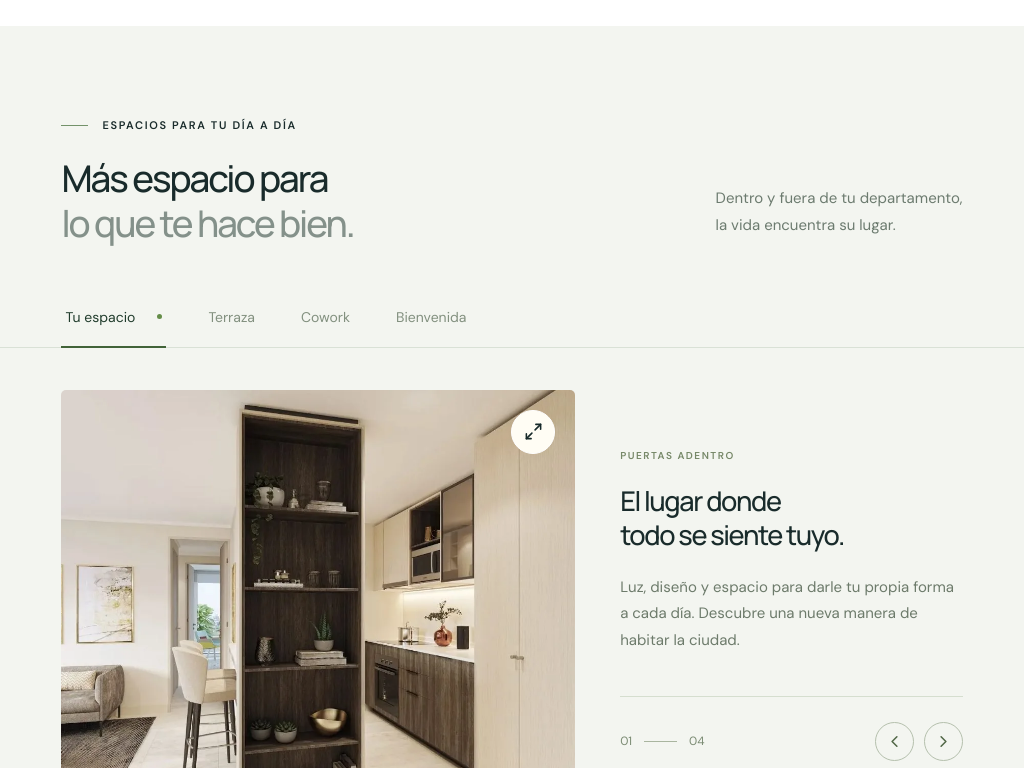
Test: Recorrido de Fundamenta › la galería avanza y se cierra con el teclado
(page scrolled)
Click the button named "Ampliar imagen del espacio". click: (533, 432)
box: left=511, top=410, right=555, bottom=454
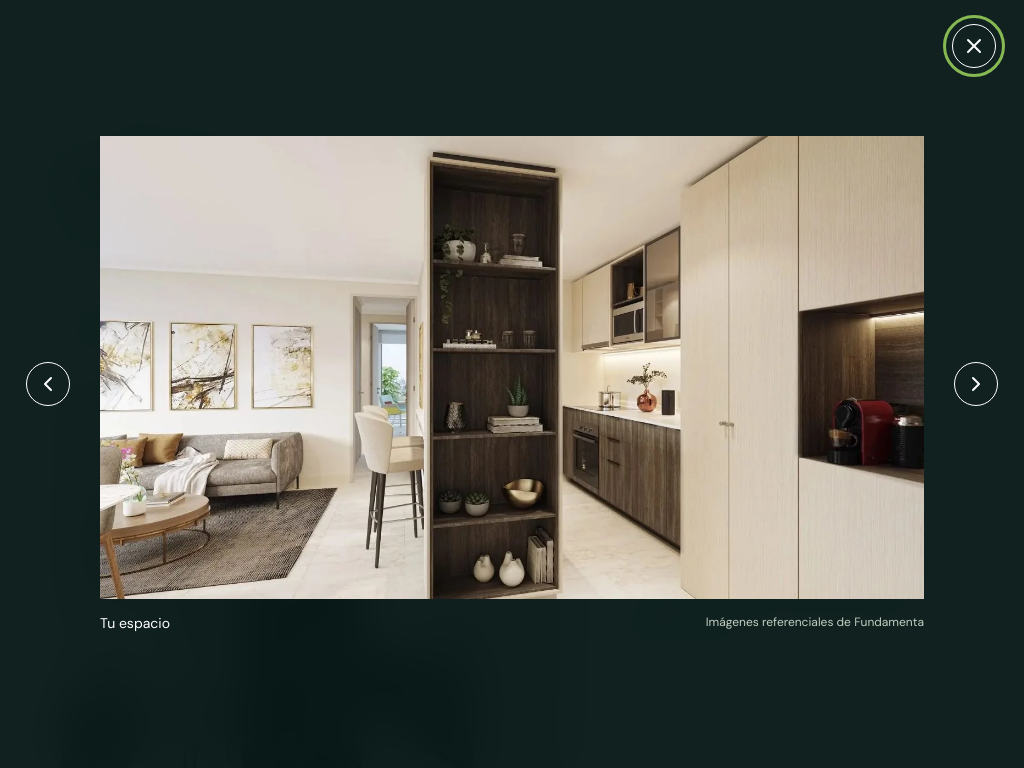
Press ArrowRight
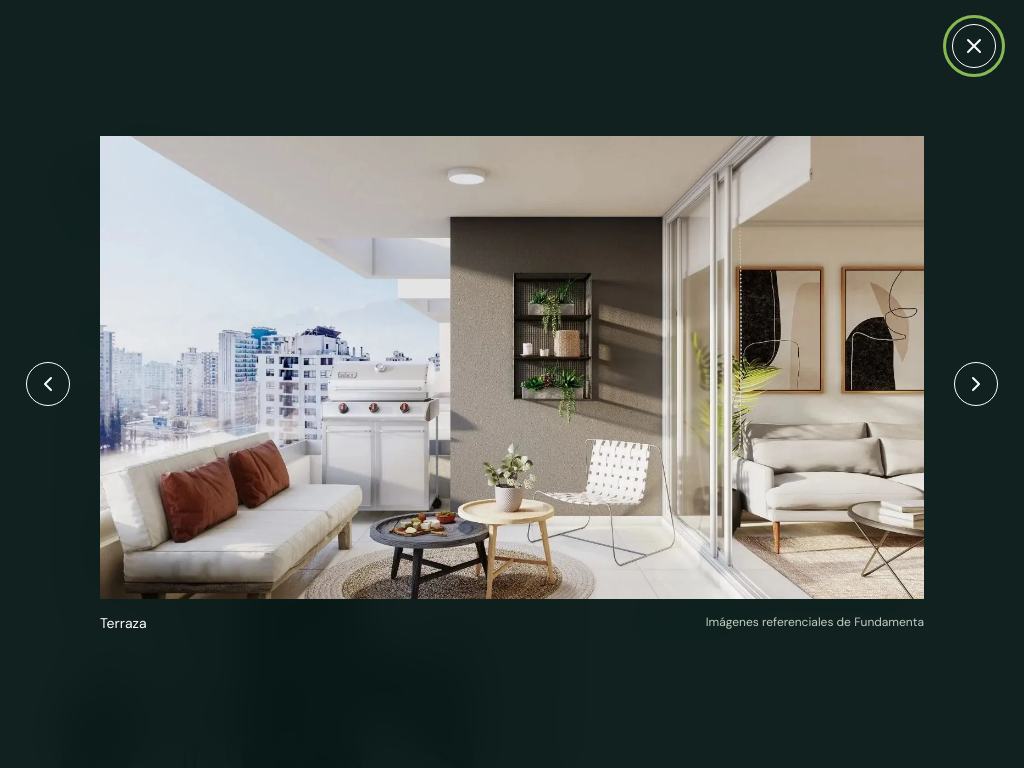
Press ArrowLeft
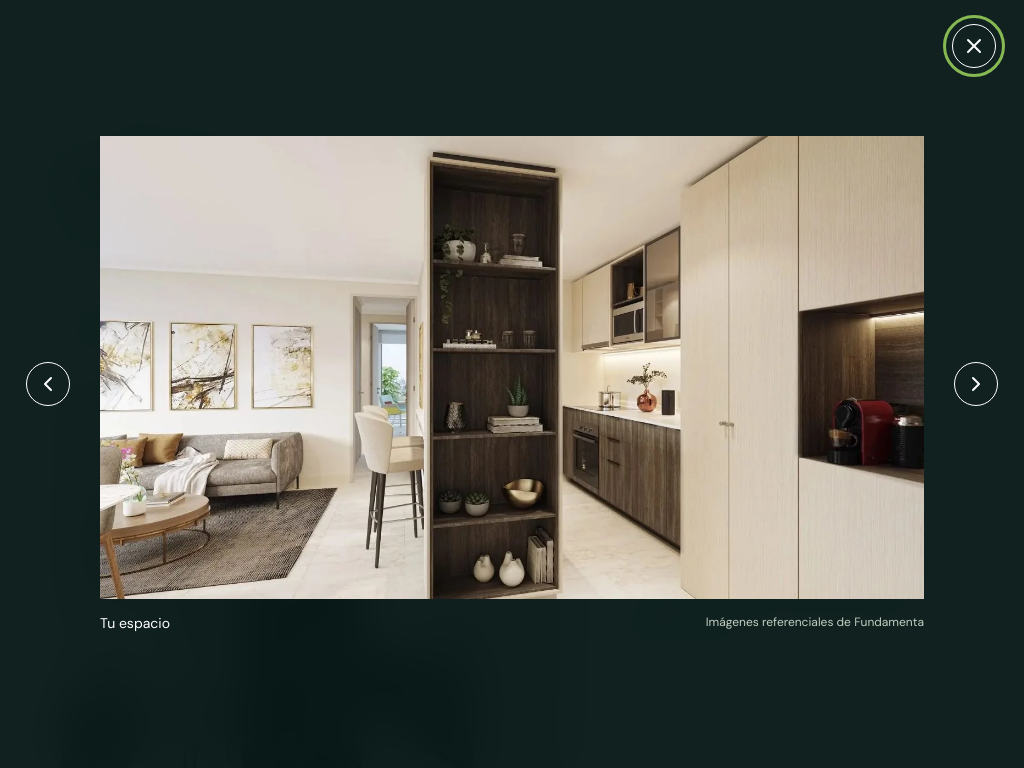
Press Escape
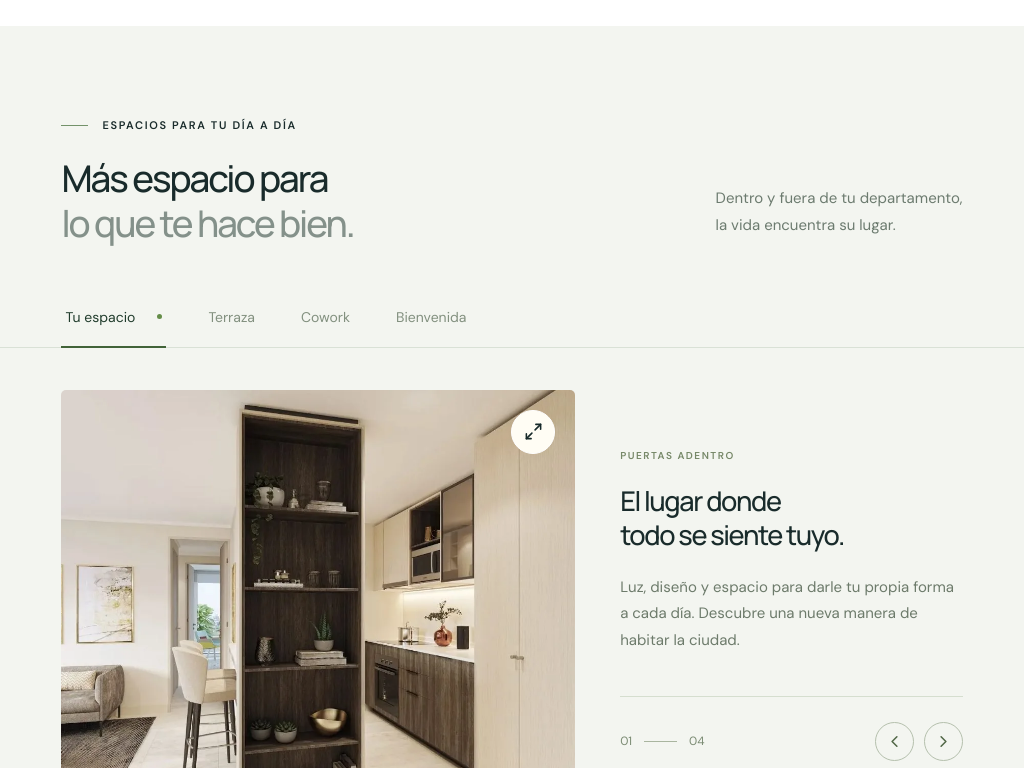
Expected: the dialog is gone
